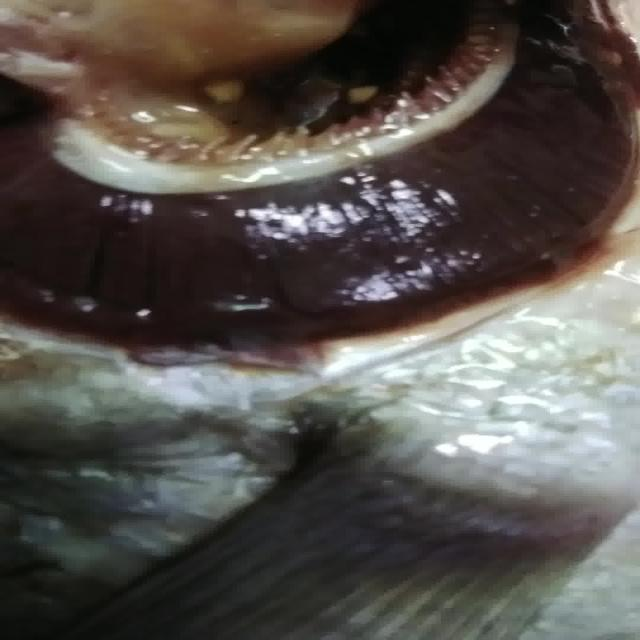Non-Fresh: (38, 16, 624, 368)
